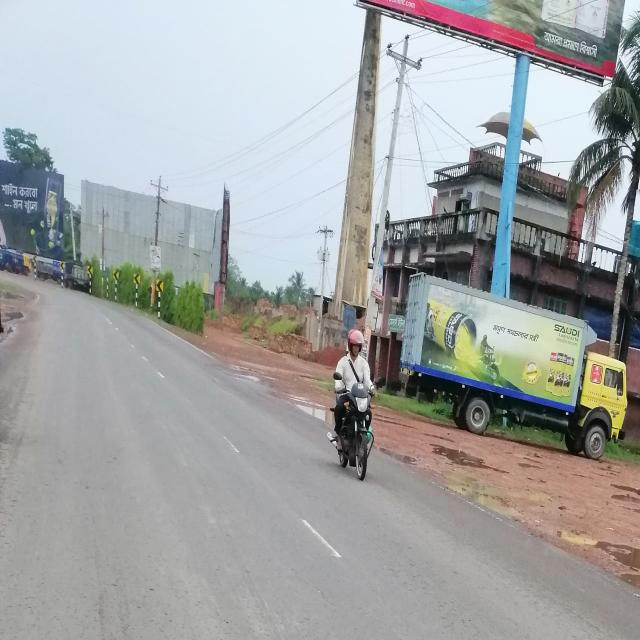Motorbike: (319, 371, 388, 502)
Truck: (381, 255, 636, 492)
